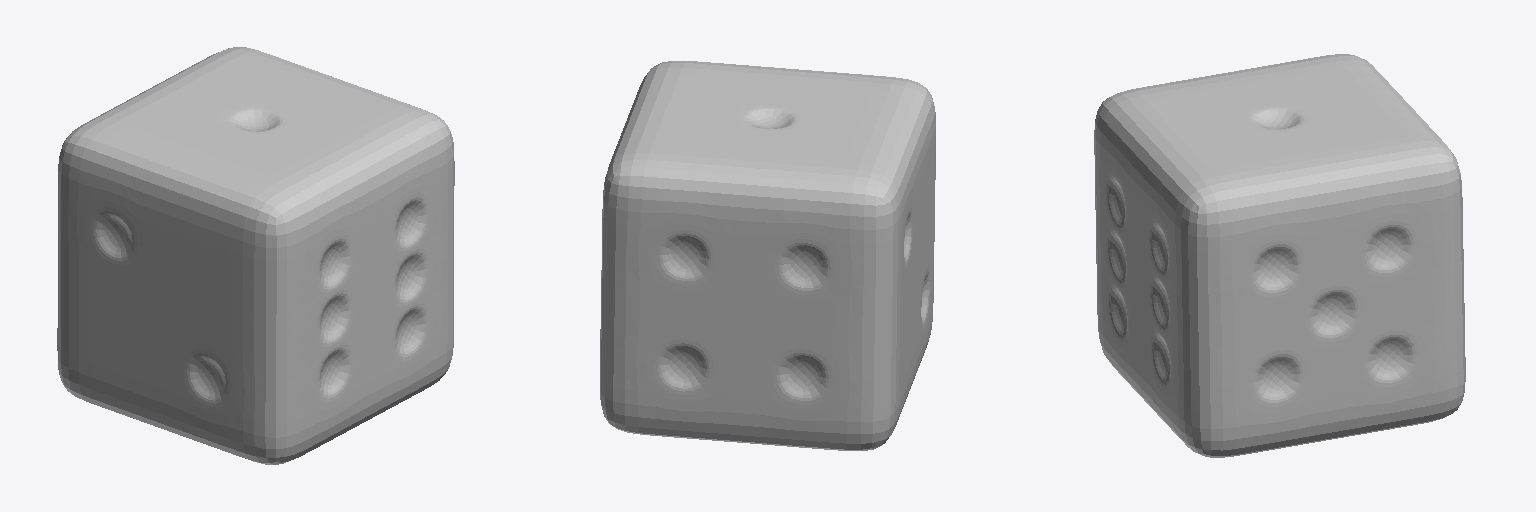
Rendered from newdice.obj.
The picture shows the model from 3 angles: view 1: azimuth 30°, elevation 25°; view 2: azimuth 150°, elevation 25°; view 3: azimuth 270°, elevation 25°; orthographic projection.
Parts seen in each view (by area): view 1: Cube.002; view 2: Cube.002; view 3: Cube.002.
Part boxes in pixels (x1,y1,x2,y2): Cube.002: (57,47,454,464); Cube.002: (600,61,935,450); Cube.002: (1094,54,1465,457).
Bounding box in the file's own units: 0.0575 × 0.0477 × 0.0578.